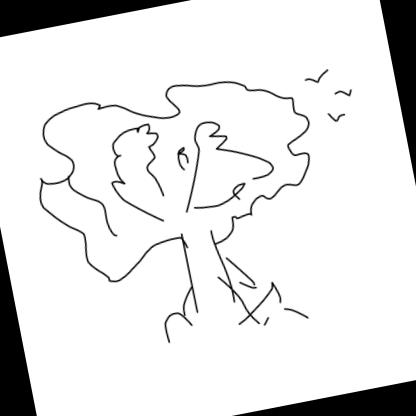crown_dizzy: (21, 60, 332, 294)
trunk_straight: (183, 245, 234, 302)
